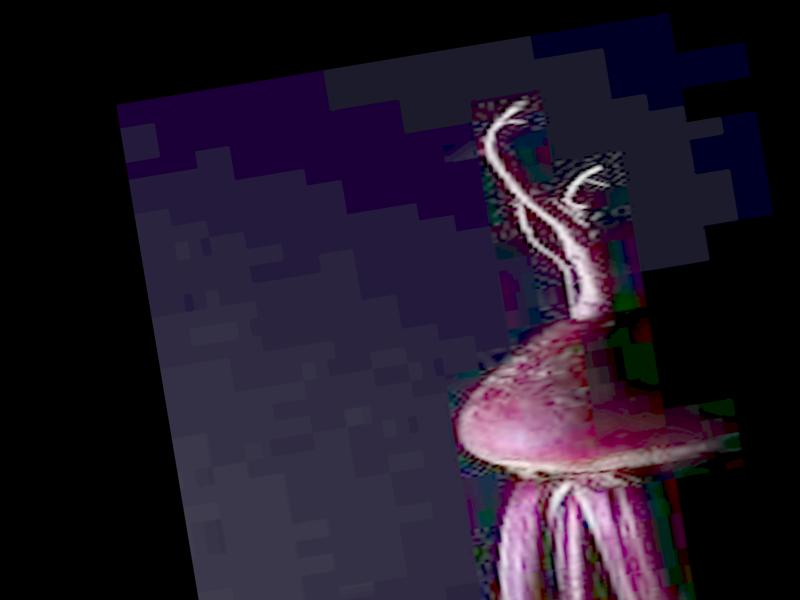Beet: (389, 74, 766, 600)
